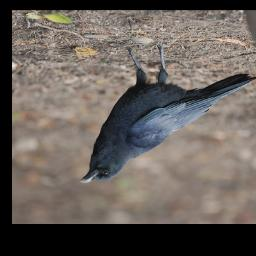Crow: (77, 40, 256, 184)
